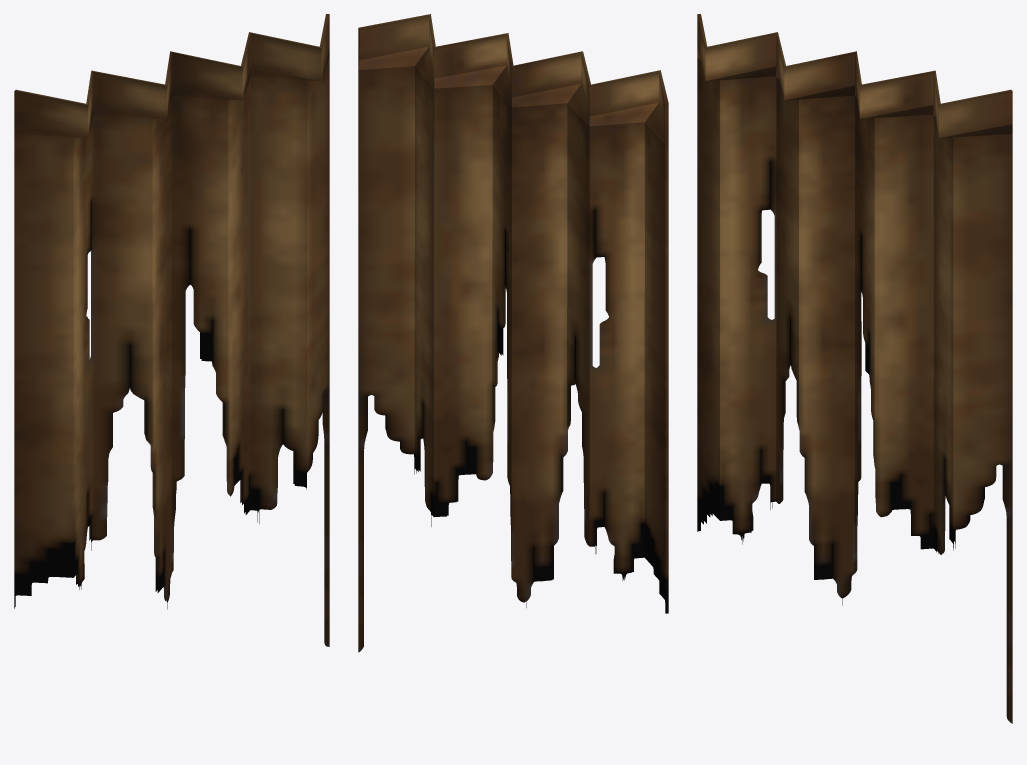
File: Inside_Poly_Curtain_06.obj
3 renders of one model, left to right at view 1: azimuth 30°, elevation 25°; view 2: azimuth 150°, elevation 25°; view 3: azimuth 330°, elevation 25°, orthographic.
Parts seen in each view (by area): view 1: Plane.001; view 2: Plane.001; view 3: Plane.001.
Boxes of the visible parts, bbox=[...] form: Plane.001: bbox=[14, 14, 329, 646]; Plane.001: bbox=[358, 14, 668, 652]; Plane.001: bbox=[697, 14, 1012, 723].
Size of the model in its own units: 1 by 1.99 by 0.19.
Materials: 1 (1 with a texture image).
